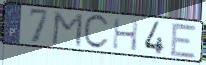4: (143, 20, 166, 57)
7: (27, 6, 50, 46)
C: (82, 13, 111, 51)
E: (169, 21, 199, 60)
H: (111, 17, 141, 53)
M: (50, 11, 85, 49)
